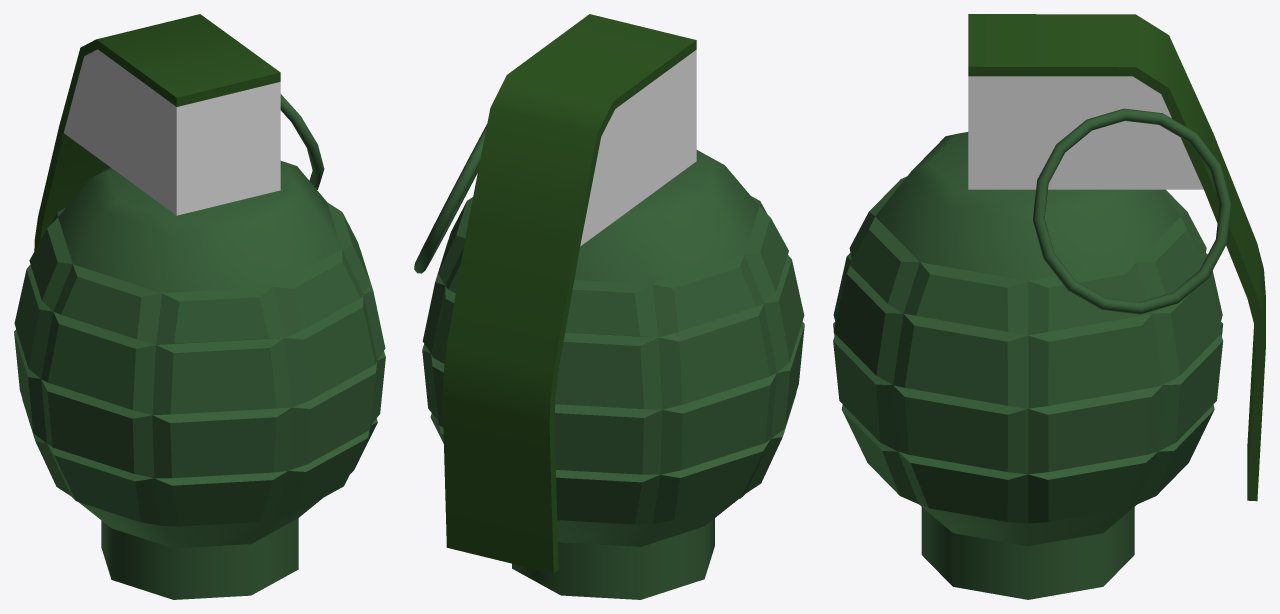
Rendered from grenade.fbx.
3 views of the same model, side by side, from view 1: azimuth 30°, elevation 25°; view 2: azimuth 150°, elevation 25°; view 3: azimuth 270°, elevation 25° (orthographic). The views are drawn at different scales.
Parts seen in each view (by area): view 1: GrenadeBody, Lever, Ring; view 2: GrenadeBody, Lever, Ring; view 3: GrenadeBody, Lever, Ring.
Boxes of the visible parts, box(x1,y1,x2,y2) form: GrenadeBody: box(14, 49, 385, 599); Lever: box(34, 14, 280, 250); Ring: box(280, 94, 324, 189); GrenadeBody: box(422, 50, 804, 599); Lever: box(442, 14, 696, 573); Ring: box(414, 124, 487, 273); GrenadeBody: box(833, 76, 1223, 599); Lever: box(968, 14, 1265, 501); Ring: box(1033, 108, 1231, 314).
Bounding box in the file's own units: 32.48 × 47.27 × 36.03.
